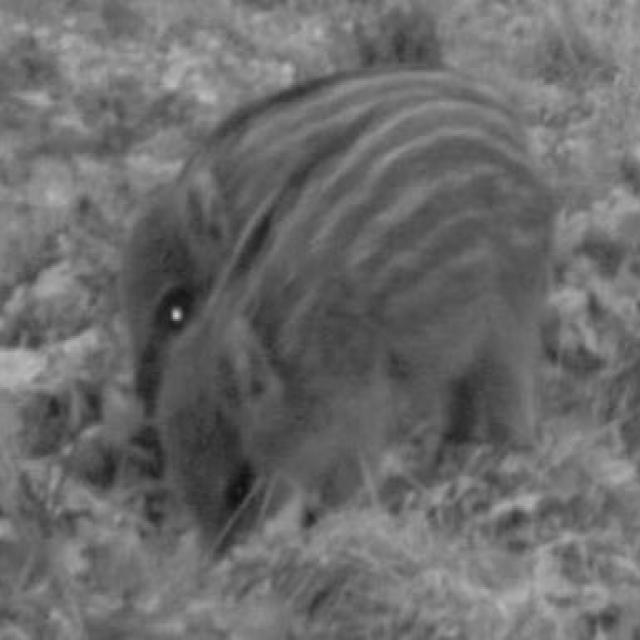pig: (146, 126, 570, 581), (101, 42, 545, 351)
